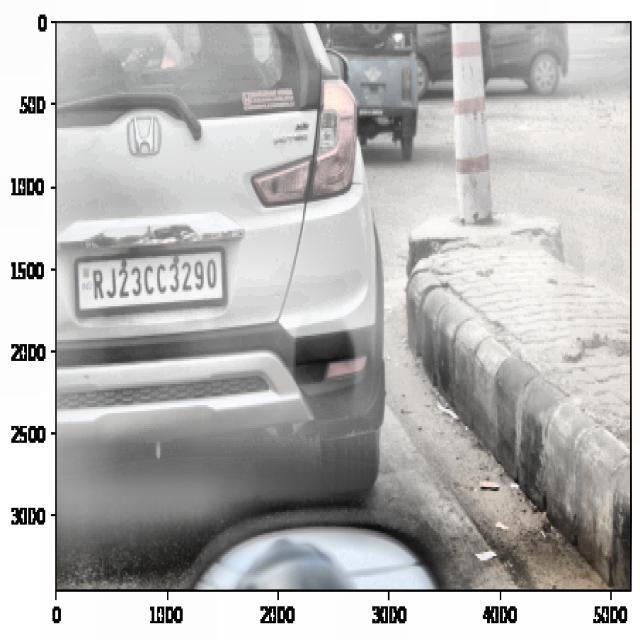license_plate: (89, 254, 222, 305)
